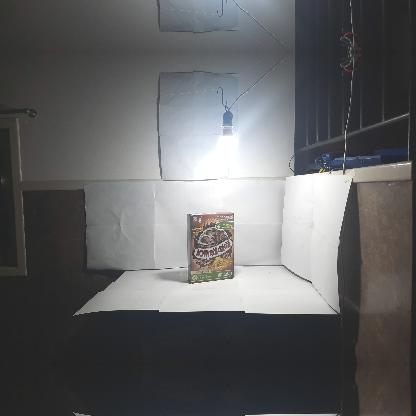Koko-Krunch: (186, 211, 234, 283)
